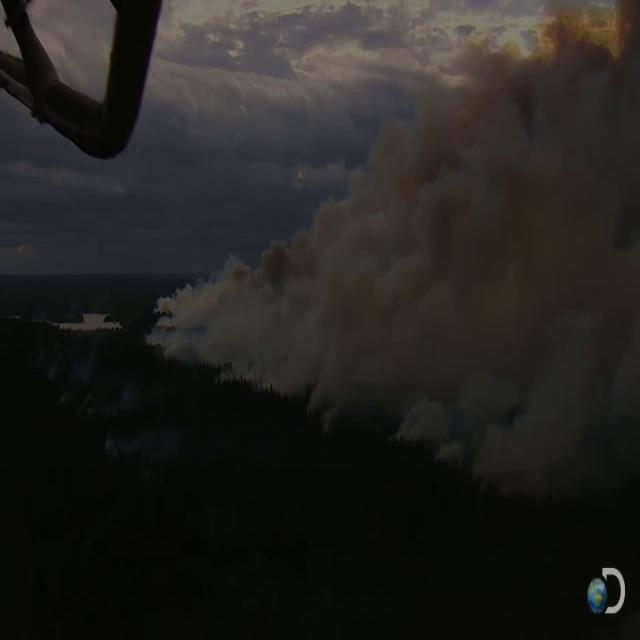Smoke: (330, 0, 640, 466), (198, 264, 621, 446), (388, 127, 636, 307)
